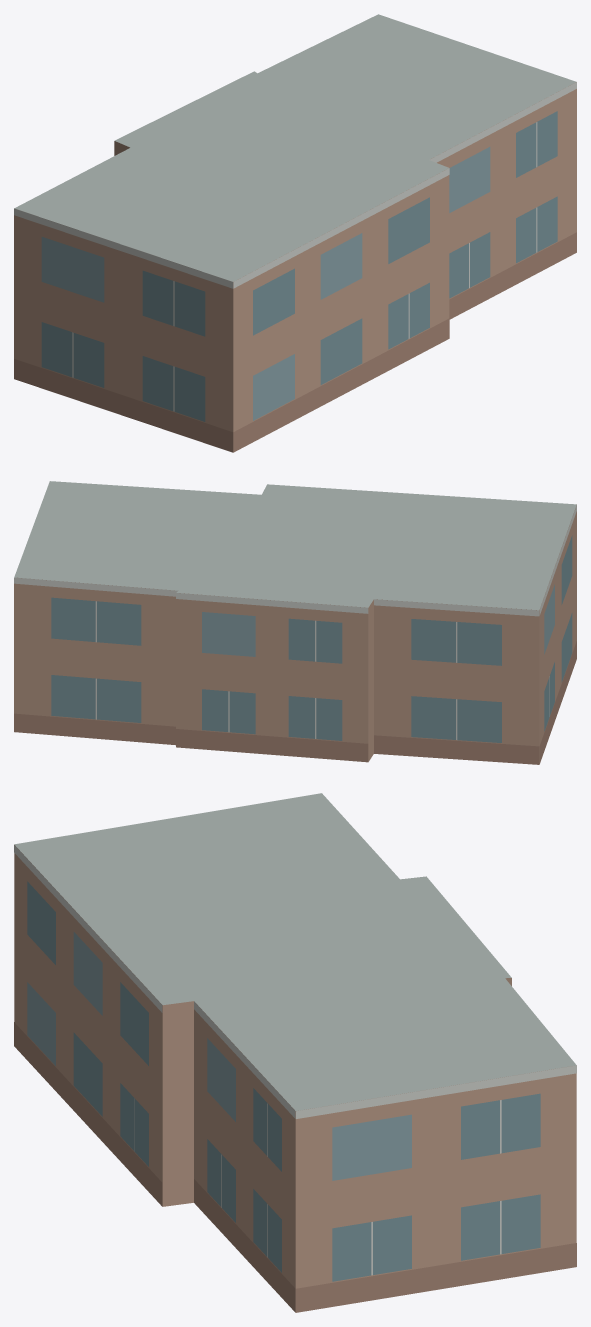
The model's file is survey-upis-32604238.glb.
3 views of the same model, one above another, from view 1: azimuth 30°, elevation 25°; view 2: azimuth 150°, elevation 25°; view 3: azimuth 270°, elevation 25° (orthographic). The views are drawn at different scales.
Parts seen in each view (by area): view 1: survey-upis-32604238.tmp; view 2: survey-upis-32604238.tmp; view 3: survey-upis-32604238.tmp.
Boxes of the visible parts, x1,y1,x2,y2 form: survey-upis-32604238.tmp: (14,14,576,452); survey-upis-32604238.tmp: (14,481,576,764); survey-upis-32604238.tmp: (14,793,576,1312).
Bounding box in the file's own units: 20.65 × 6.1 × 15.43.
